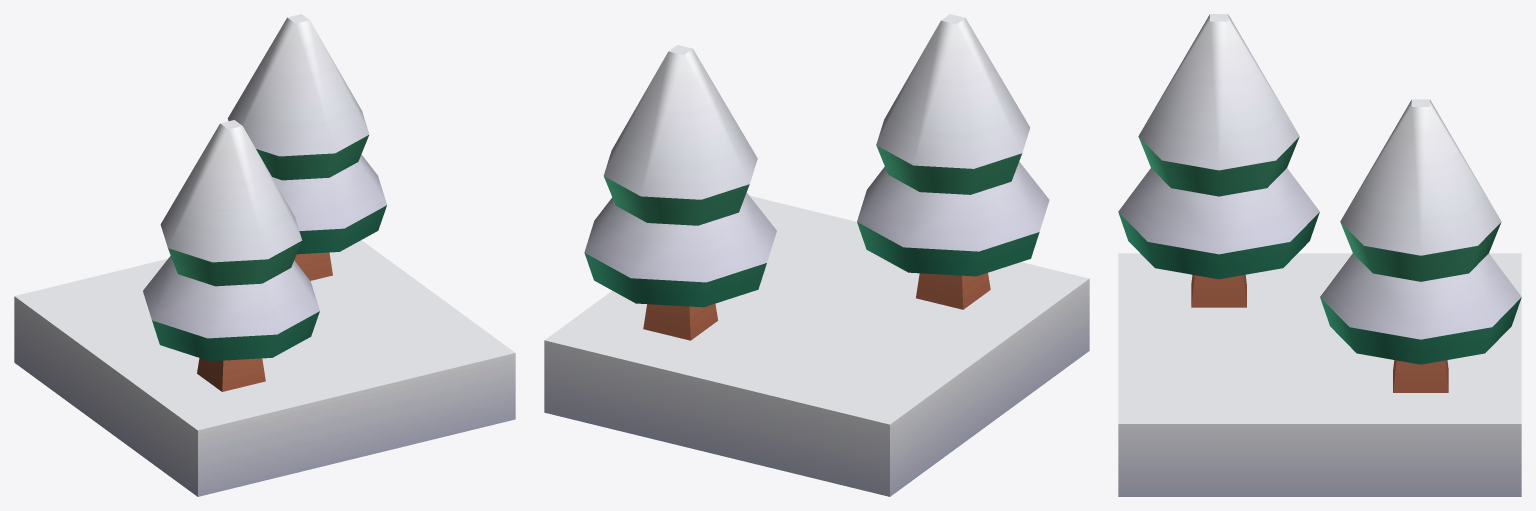
Rendered from kenney-tower-defense-snow-tile-tree-double.glb.
The picture shows the model from 3 angles, left to right: view 1: azimuth 30°, elevation 25°; view 2: azimuth 150°, elevation 25°; view 3: azimuth 270°, elevation 25°; orthographic projection. The views are drawn at different scales.
Parts seen in each view (by area): view 1: snow-tile-tree-double; view 2: snow-tile-tree-double; view 3: snow-tile-tree-double.
Part boxes in pixels (<box>): snow-tile-tree-double: <box>14,14,515,496</box>; snow-tile-tree-double: <box>544,14,1089,496</box>; snow-tile-tree-double: <box>1118,14,1521,496</box>.
Bounding box in the file's own units: 1 × 0.96 × 1.
1 material, 1 textured.
